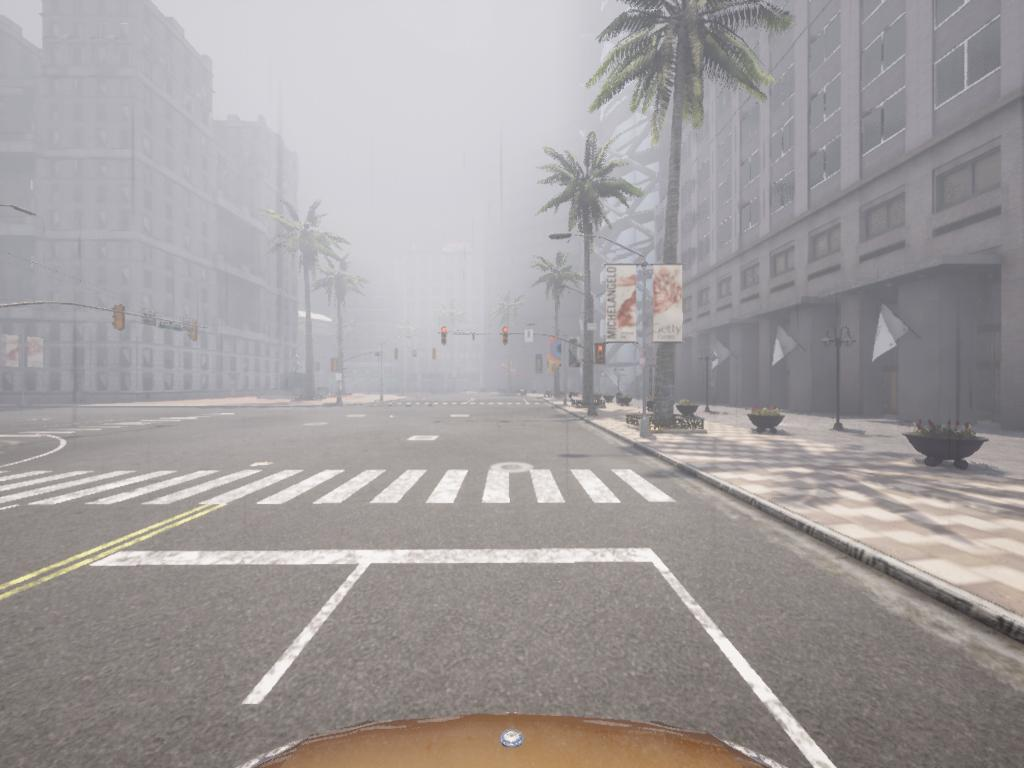traffic_light: (111, 307, 125, 331), (189, 322, 202, 343), (596, 345, 607, 366), (501, 327, 510, 344), (332, 358, 340, 375), (441, 328, 449, 343), (431, 348, 438, 364), (395, 347, 400, 365)
